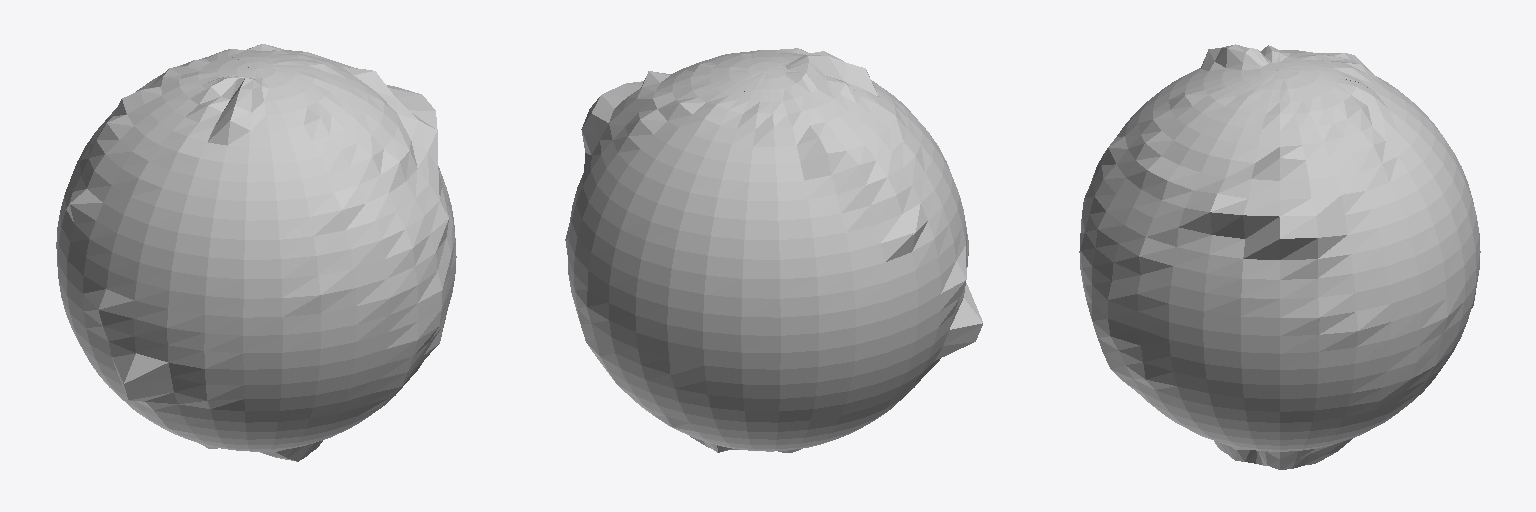
The model's file is topoEarth_3.obj.
3 renders of one model, left to right at view 1: azimuth 30°, elevation 25°; view 2: azimuth 150°, elevation 25°; view 3: azimuth 270°, elevation 25°, orthographic.
Parts seen in each view (by area): view 1: Plane; view 2: Plane; view 3: Plane.
Part boxes in pixels (x1,y1,x2,y2): Plane: (56, 44, 456, 461); Plane: (565, 48, 982, 452); Plane: (1079, 44, 1480, 469).
Bounding box in the file's own units: 238 × 249 × 232.